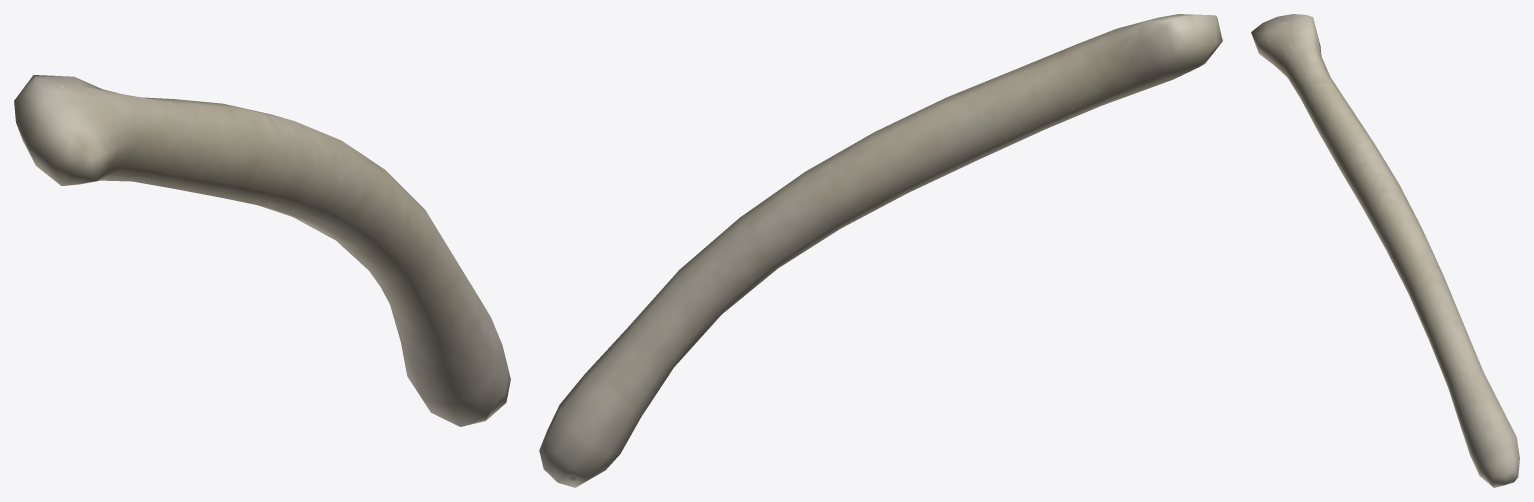
Rendered from Rib L13.fbx.
The picture shows the model from 3 angles, left to right: view 1: azimuth 30°, elevation 25°; view 2: azimuth 150°, elevation 25°; view 3: azimuth 270°, elevation 25°; orthographic projection. The views are drawn at different scales.
Visible parts, largest first — view 1: Rib L13 low, Rib L13; view 2: Rib L13 low, Rib L13; view 3: Rib L13 low, Rib L13.
Boxes of the visible parts, x1=… form: Rib L13 low: x1=14, y1=75, x2=510, y2=426; Rib L13: x1=25, y1=85, x2=503, y2=411; Rib L13 low: x1=539, y1=14, x2=1222, y2=487; Rib L13: x1=569, y1=15, x2=1205, y2=480; Rib L13 low: x1=1251, y1=14, x2=1519, y2=487; Rib L13: x1=1265, y1=22, x2=1511, y2=485.
Bounding box in the file's own units: 3.24 × 2.86 × 2.17.
Materials: 1 (1 with a texture image).
